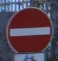No entry: (5, 6, 53, 56)
